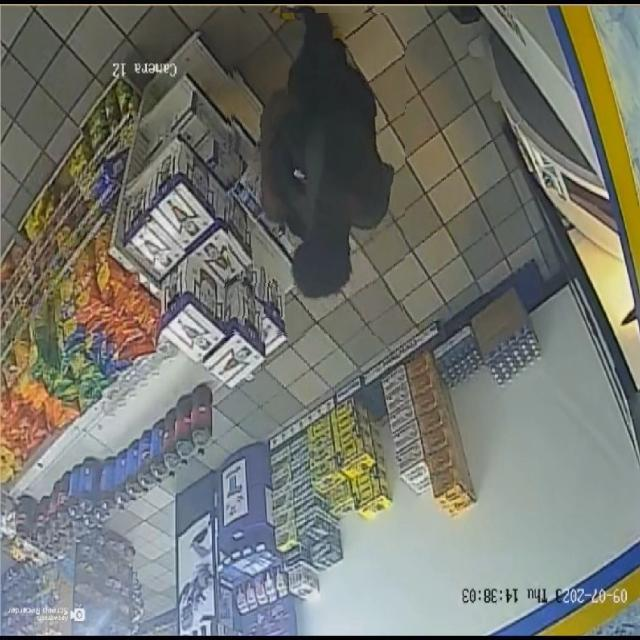Normal: (225, 13, 405, 336)
